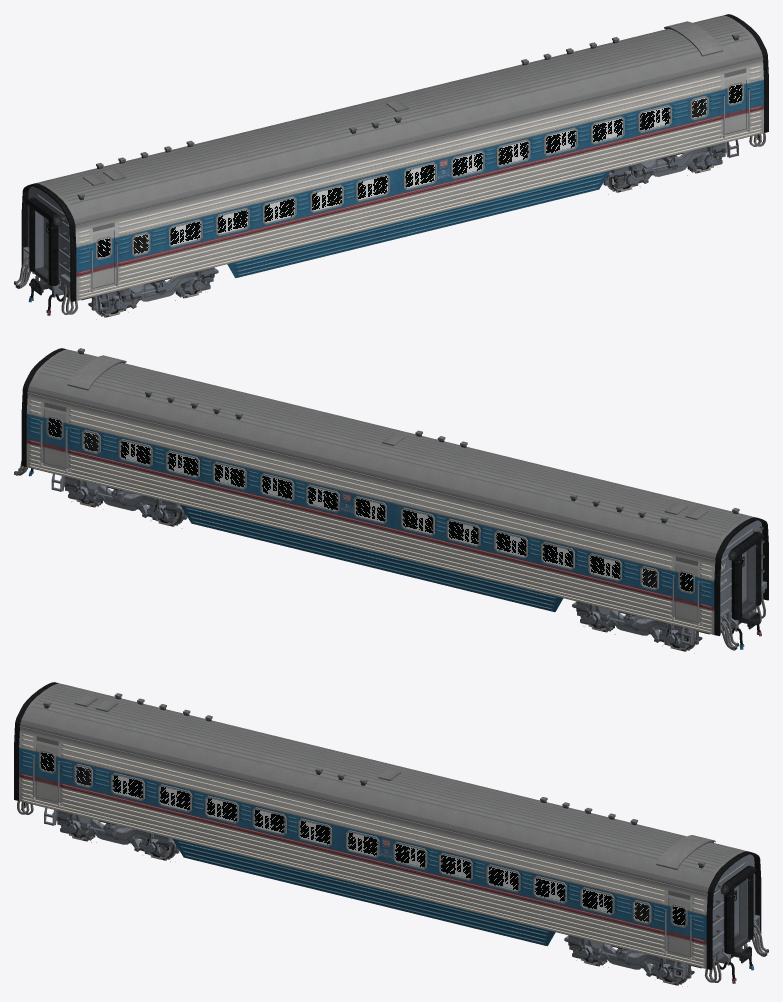
File: mvp_ir_r200c.obj
The picture shows the model from 3 angles, top to bottom: view 1: azimuth 30°, elevation 25°; view 2: azimuth 150°, elevation 25°; view 3: azimuth 330°, elevation 25°; orthographic projection.
Parts seen in each view (by area): view 1: FRAME_r200c, BOGEY_REAR_r200c, BOGEY_FRONT_r200c; view 2: FRAME_r200c, BOGEY_REAR_r200c, BOGEY_FRONT_r200c; view 3: FRAME_r200c, BOGEY_FRONT_r200c, BOGEY_REAR_r200c.
Boxes of the visible parts, x1,y1,x2,y2 form: FRAME_r200c: (14, 14, 768, 315); BOGEY_REAR_r200c: (603, 142, 730, 189); BOGEY_FRONT_r200c: (88, 267, 218, 314); FRAME_r200c: (14, 348, 768, 650); BOGEY_REAR_r200c: (60, 476, 187, 523); BOGEY_FRONT_r200c: (572, 601, 702, 648); FRAME_r200c: (14, 682, 768, 983); BOGEY_FRONT_r200c: (52, 810, 179, 857); BOGEY_REAR_r200c: (564, 935, 694, 982).
Size of the model in its own units: 25.48 by 4.35 by 3.16.
